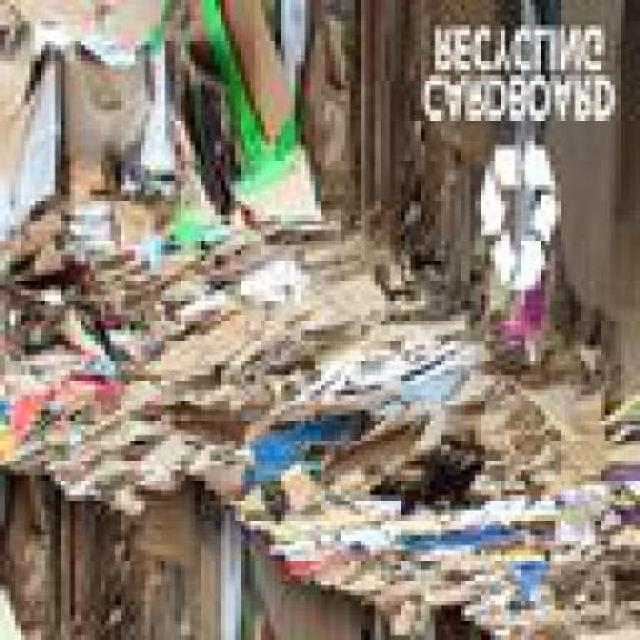CARDBOARD: (0, 4, 637, 638), (40, 4, 471, 524), (191, 5, 560, 550), (0, 5, 391, 480), (0, 4, 355, 284), (530, 4, 635, 404), (0, 489, 197, 638), (194, 496, 375, 638), (378, 600, 431, 638)
